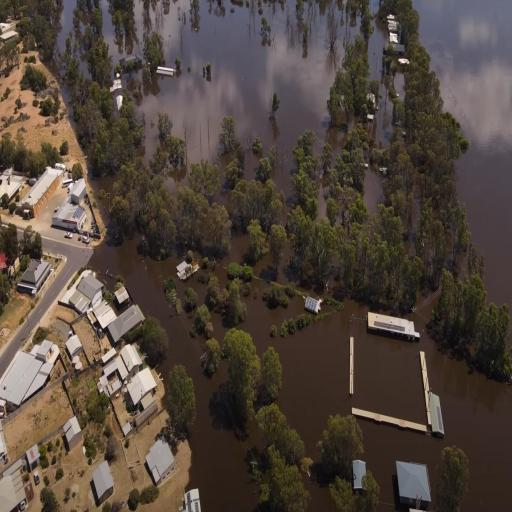flood: (100, 0, 360, 195), (274, 313, 512, 511), (88, 238, 255, 511), (238, 253, 384, 461), (416, 1, 512, 312), (239, 281, 311, 437), (195, 433, 254, 511), (86, 154, 114, 228), (215, 234, 248, 288), (304, 475, 334, 511), (364, 166, 385, 215), (57, 0, 75, 50), (57, 0, 75, 50), (63, 84, 69, 105), (79, 60, 87, 75)
house: (0, 338, 57, 412), (394, 458, 436, 512), (97, 300, 145, 346), (20, 166, 60, 220), (366, 312, 422, 344), (0, 461, 34, 512), (68, 273, 104, 316), (126, 365, 158, 413), (146, 435, 176, 485), (51, 201, 87, 235), (91, 458, 115, 507), (17, 260, 45, 300), (116, 344, 144, 382), (0, 165, 24, 209), (60, 414, 82, 452), (428, 390, 445, 438), (350, 456, 369, 495), (64, 331, 84, 362), (70, 178, 88, 208), (183, 485, 201, 512), (385, 13, 401, 39)
